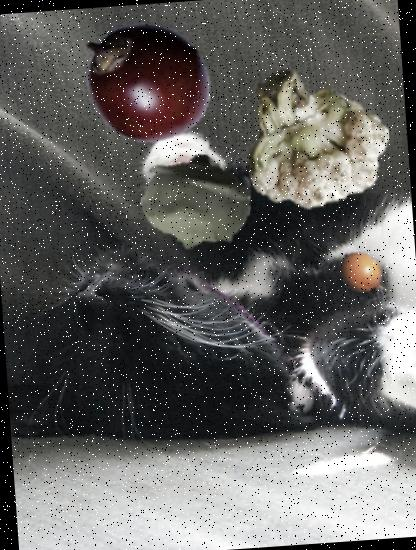Cauliflower: (236, 58, 394, 216)
Granadilla: (334, 245, 394, 304)
Kohlrabi: (138, 143, 254, 260)
Tamarillo: (77, 9, 219, 151)
